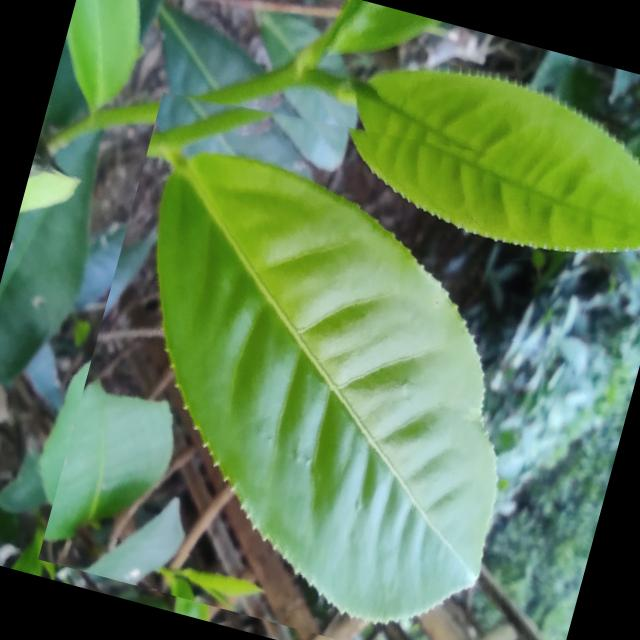Category C(4-7 days): (36, 58, 620, 640)
